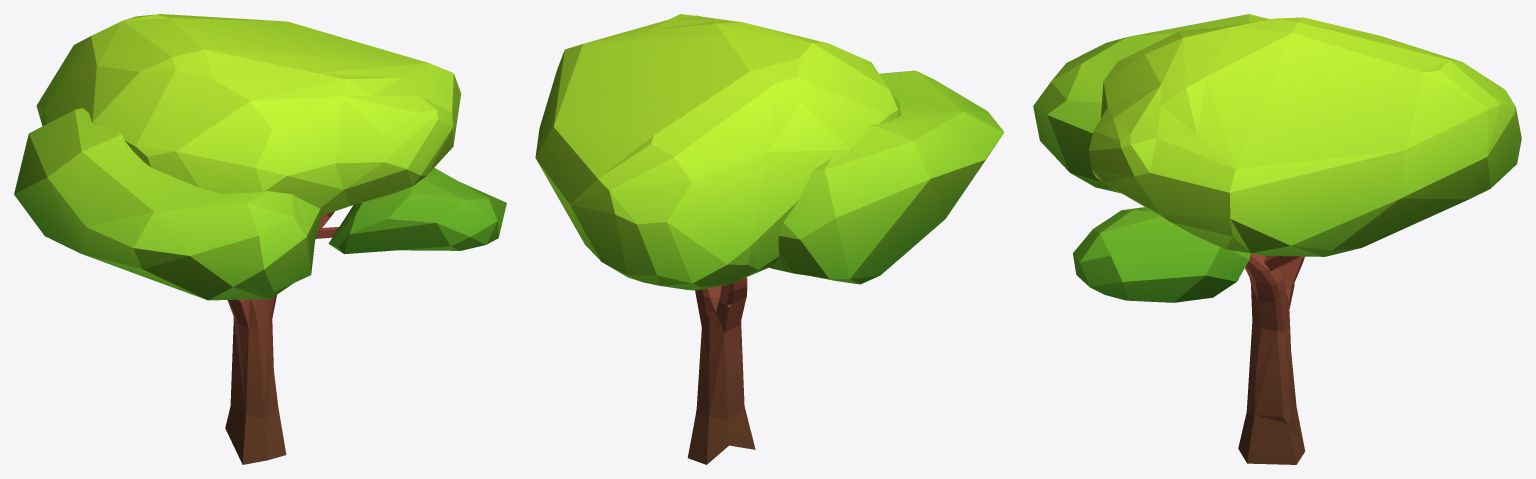
The model's file is samor_4077_133_LowCanopy.fbx.
The picture shows the model from 3 angles, left to right: view 1: azimuth 30°, elevation 25°; view 2: azimuth 150°, elevation 25°; view 3: azimuth 270°, elevation 25°; orthographic projection.
Parts seen in each view (by area): view 1: samor_4077_133_LowCanopy; view 2: samor_4077_133_LowCanopy; view 3: samor_4077_133_LowCanopy.
Part boxes in pixels (<box>): samor_4077_133_LowCanopy: <box>14,14,506,464</box>; samor_4077_133_LowCanopy: <box>535,14,1004,464</box>; samor_4077_133_LowCanopy: <box>1033,14,1521,464</box>.
Size of the model in its own units: 8.69 by 8.31 by 9.15.
Materials: 1 (1 with a texture image).
